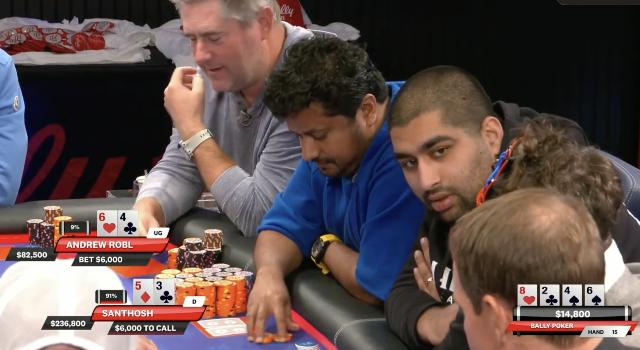2C: (542, 286, 558, 306)
3C: (155, 280, 173, 304)
4C: (119, 212, 137, 236)
4S: (564, 285, 582, 305)
5D: (134, 280, 152, 304)
6H: (98, 210, 116, 236)
6S: (586, 284, 604, 306)
8H: (518, 285, 536, 305)
